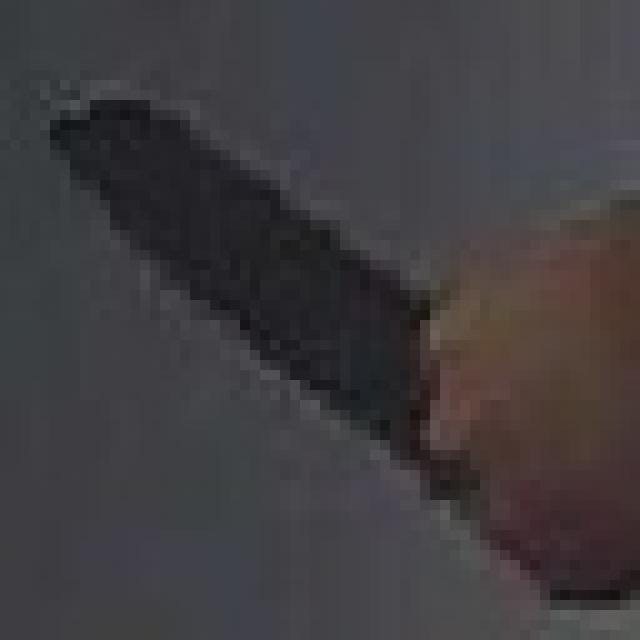knife: (0, 46, 588, 550)
